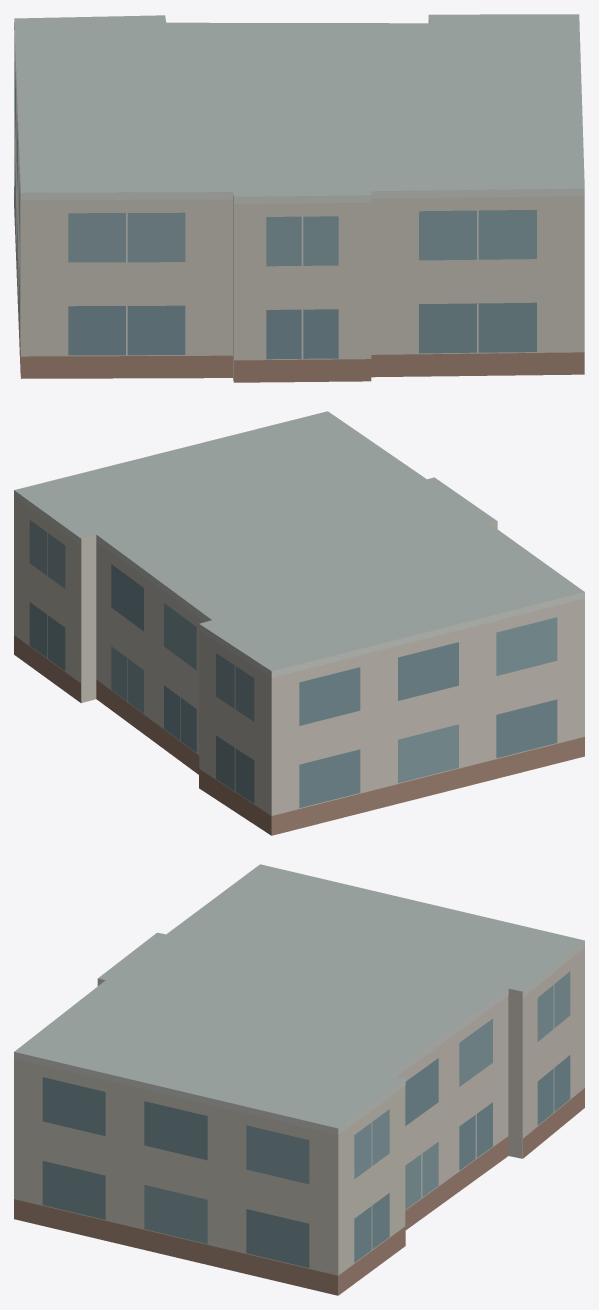
File: survey-upis-32694265.glb
3 renders of one model, top to bottom at view 1: azimuth 30°, elevation 25°; view 2: azimuth 150°, elevation 25°; view 3: azimuth 270°, elevation 25°, orthographic. The views are drawn at different scales.
Visible parts, largest first — view 1: survey-upis-32694265.tmp; view 2: survey-upis-32694265.tmp; view 3: survey-upis-32694265.tmp.
Part boxes in pixels (x1,y1,x2,y2): survey-upis-32694265.tmp: (14, 14, 584, 382); survey-upis-32694265.tmp: (14, 411, 584, 835); survey-upis-32694265.tmp: (14, 864, 584, 1295).
Size of the model in its own units: 20.67 by 6.1 by 18.87.
